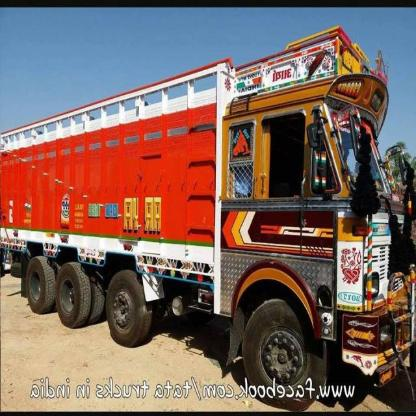truck: (4, 31, 412, 377)
